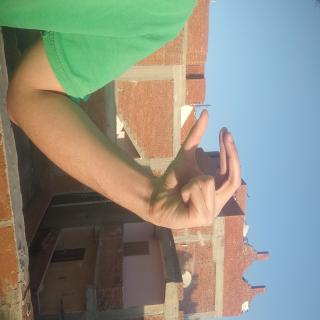DHELL: (79, 102, 173, 228)
